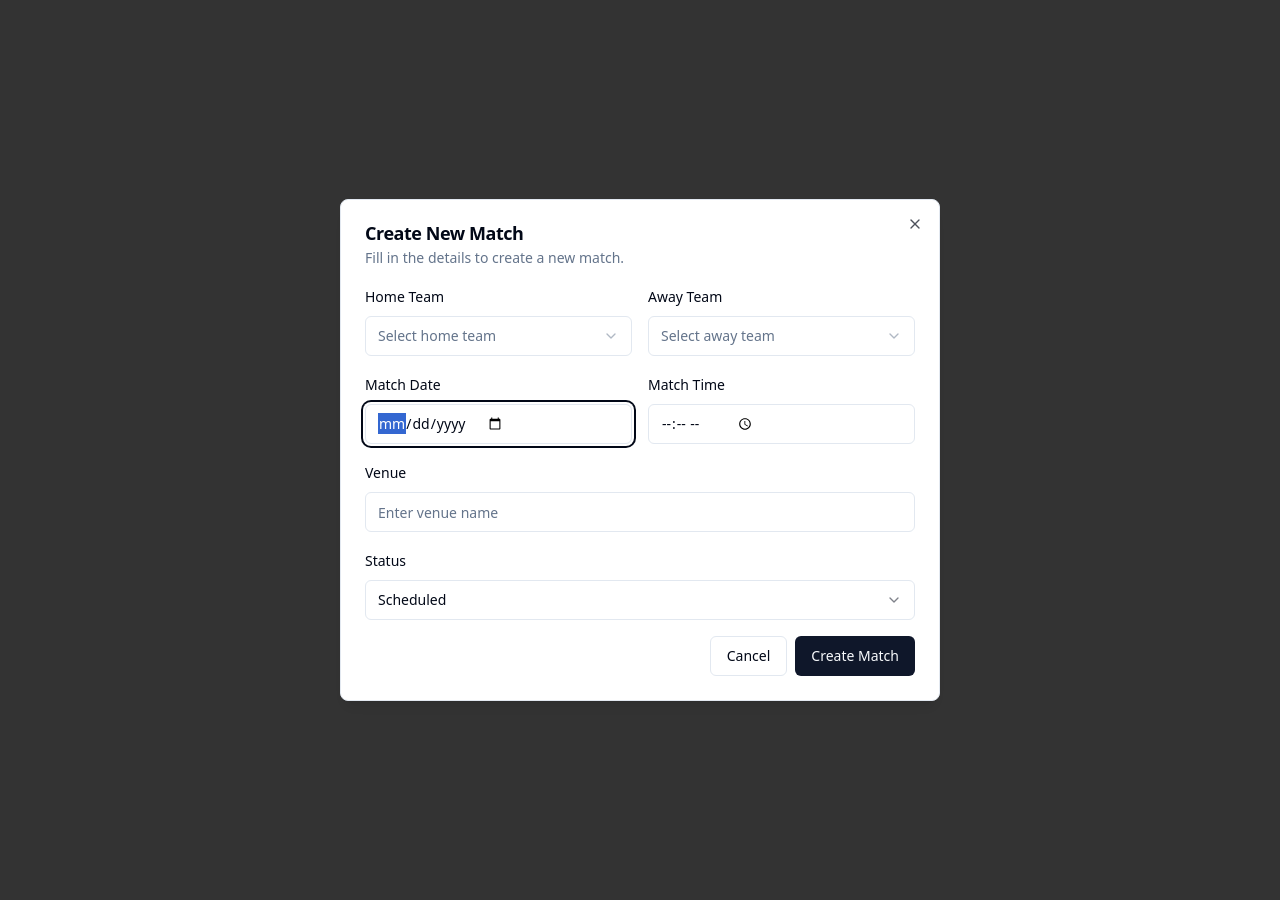
it: MatchForm › should validate required fields
Expected: the dropdown labelled "Select home team" is shown, [365,316,632,356]
Step 1. Click the button "Create Match" → coordinates (855, 656), box [795,636,915,676]
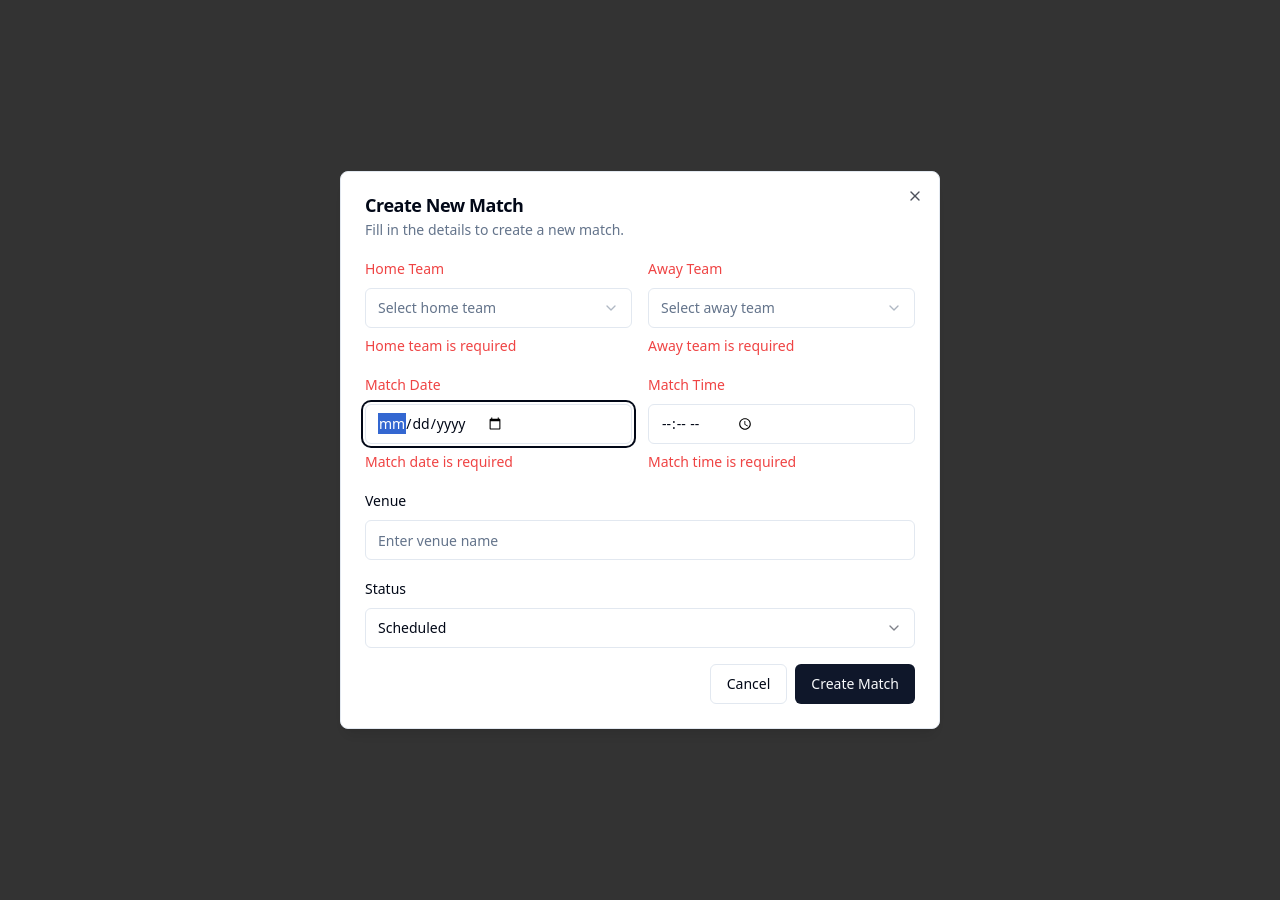
Result: the text "Home team is required" is shown at [365,336,516,355]
